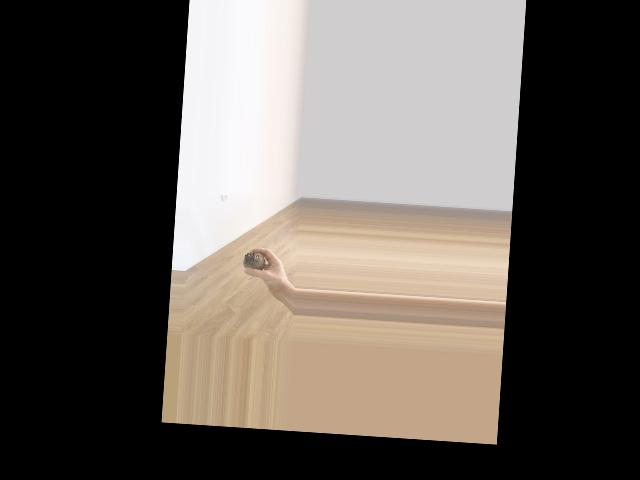beet: (241, 250, 265, 280)
